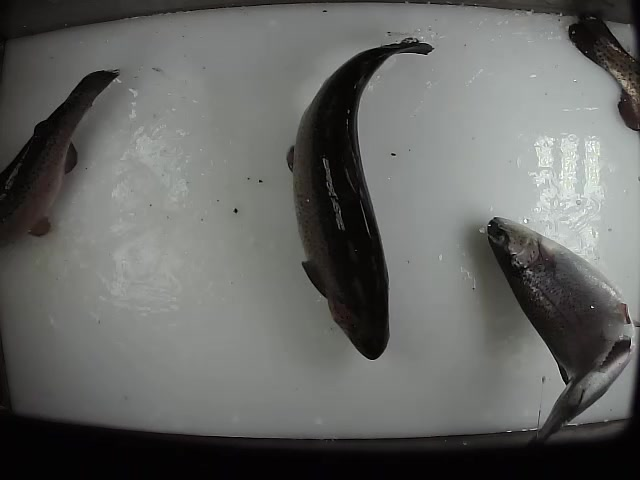Fish: (285, 38, 435, 361), (487, 218, 637, 444)
